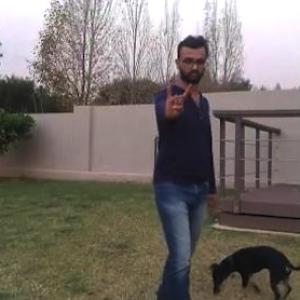takeoff-hand: (158, 74, 196, 122)
